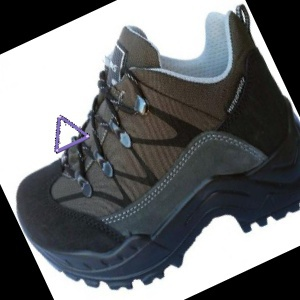triangle: (52, 111, 89, 155)
